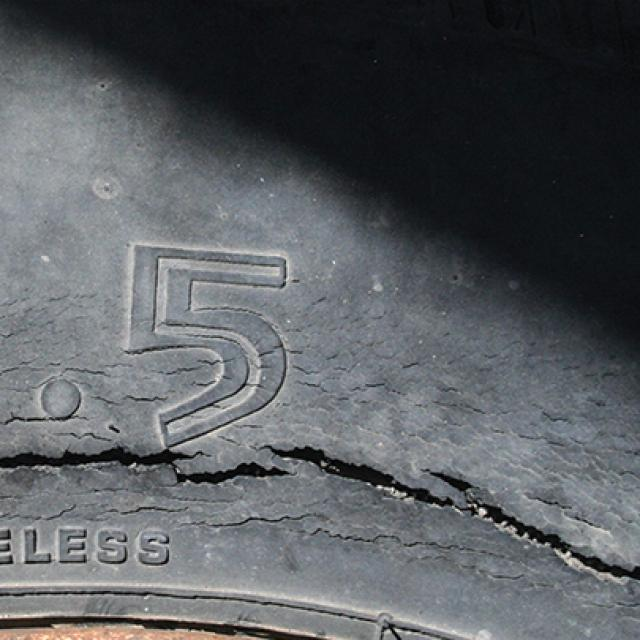Cracks: (0, 231, 638, 630)
